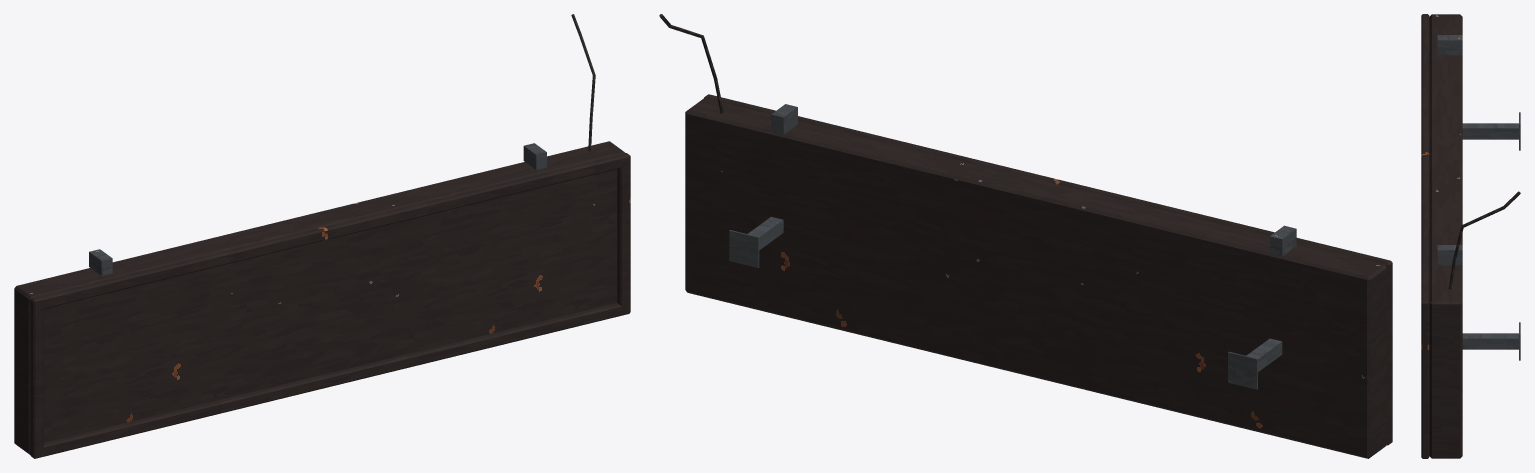
File: gk_lightbox.glb
3 renders of one model, left to right at view 1: azimuth 30°, elevation 25°; view 2: azimuth 150°, elevation 25°; view 3: azimuth 270°, elevation 25°, orthographic. The views are drawn at different scales.
Parts seen in each view (by area): view 1: p; view 2: p; view 3: p.
Boxes of the visible parts, x1,y1,x2,y2 form: p: (14, 14, 630, 458); p: (659, 14, 1392, 458); p: (1421, 14, 1520, 458).
Size of the model in its own units: 1.65 by 0.7025 by 0.2407.
Materials: 3 (3 with a texture image).
